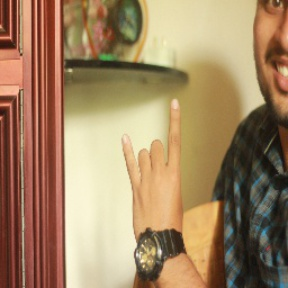V: (118, 95, 195, 239)
